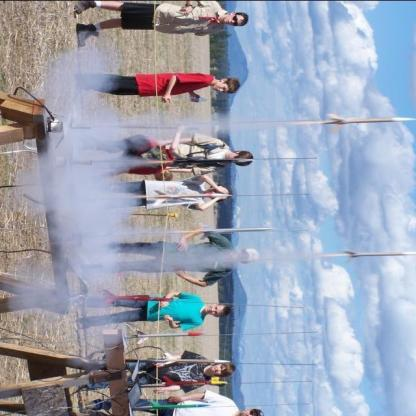MIL_TBM: (329, 112, 416, 128), (346, 246, 416, 262), (136, 329, 206, 342), (167, 353, 229, 365), (148, 399, 211, 410), (163, 376, 228, 386)
